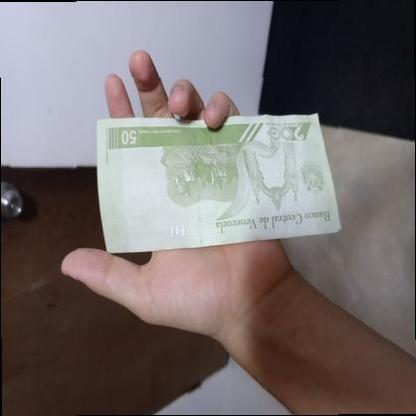fifty-back-vef: (96, 112, 341, 254)
